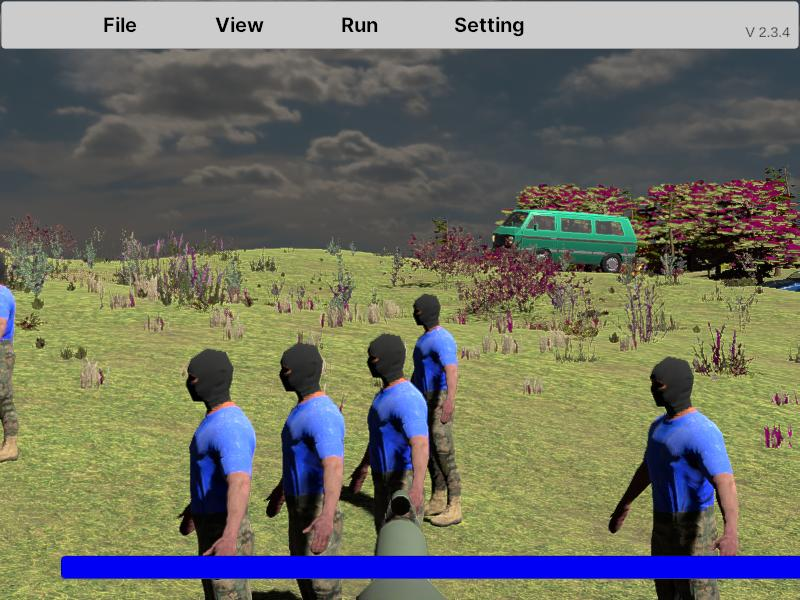Human: (609, 354, 741, 597), (264, 340, 346, 600), (349, 330, 429, 589), (181, 345, 257, 600), (409, 292, 459, 527), (0, 249, 17, 467)
car: (490, 209, 637, 274)
